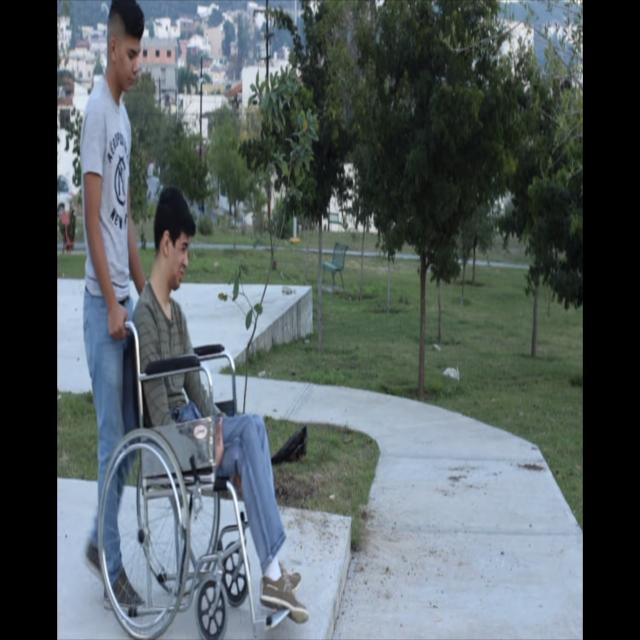wheelchairs: (97, 306, 292, 640)
